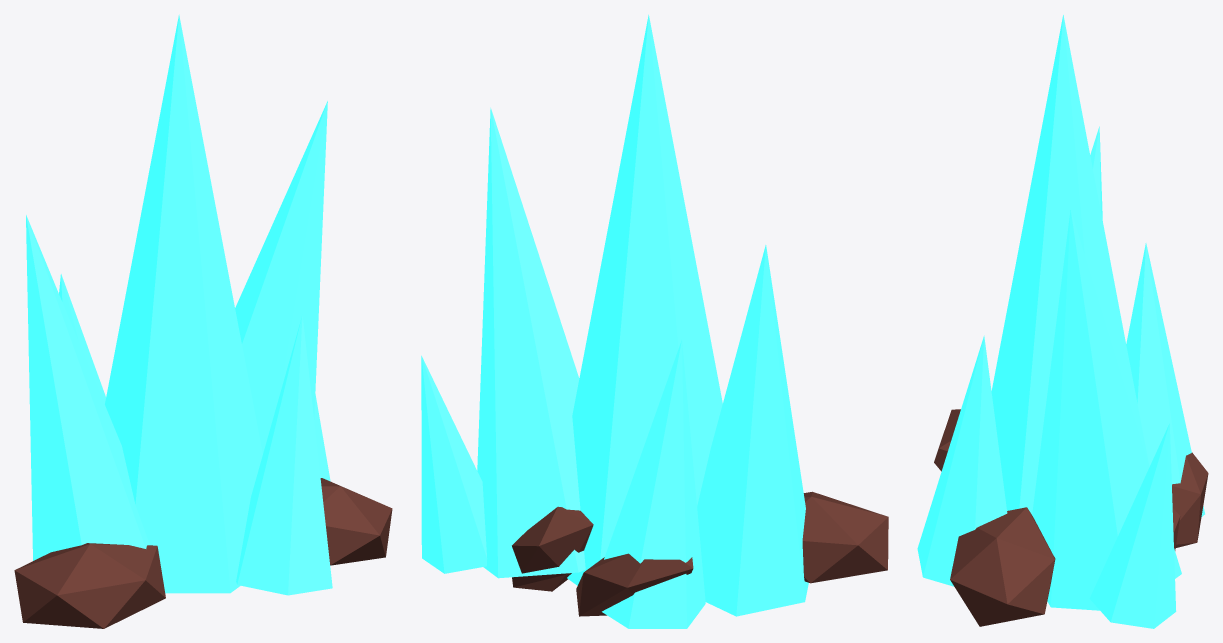
Rendered from xenite-cluster.glb.
3 renders of one model, left to right at view 1: azimuth 30°, elevation 25°; view 2: azimuth 150°, elevation 25°; view 3: azimuth 270°, elevation 25°, orthographic. The views are drawn at different scales.
Visible parts, largest first — view 1: xenite-cluster; view 2: xenite-cluster; view 3: xenite-cluster.
Part boxes in pixels (<box>): xenite-cluster: <box>14,14,392,628</box>; xenite-cluster: <box>421,14,888,628</box>; xenite-cluster: <box>917,15,1208,628</box>.
Size of the model in its own units: 2.14 by 3.02 by 1.46.
